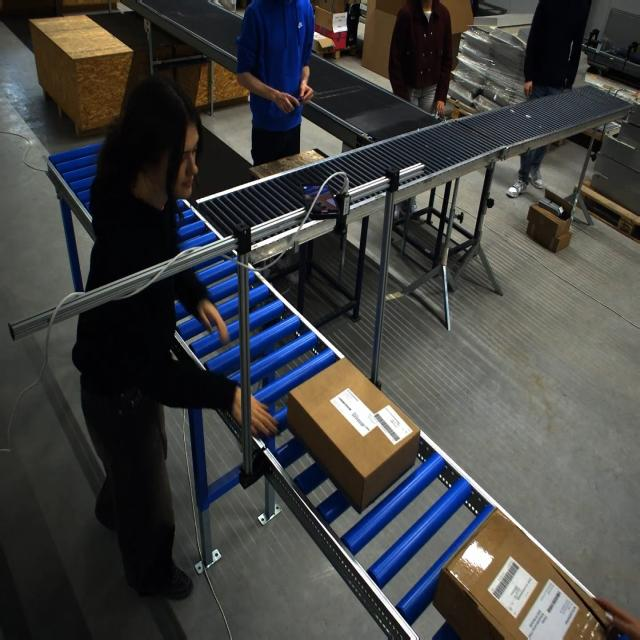box: (434, 507, 619, 639), (295, 362, 406, 500)
